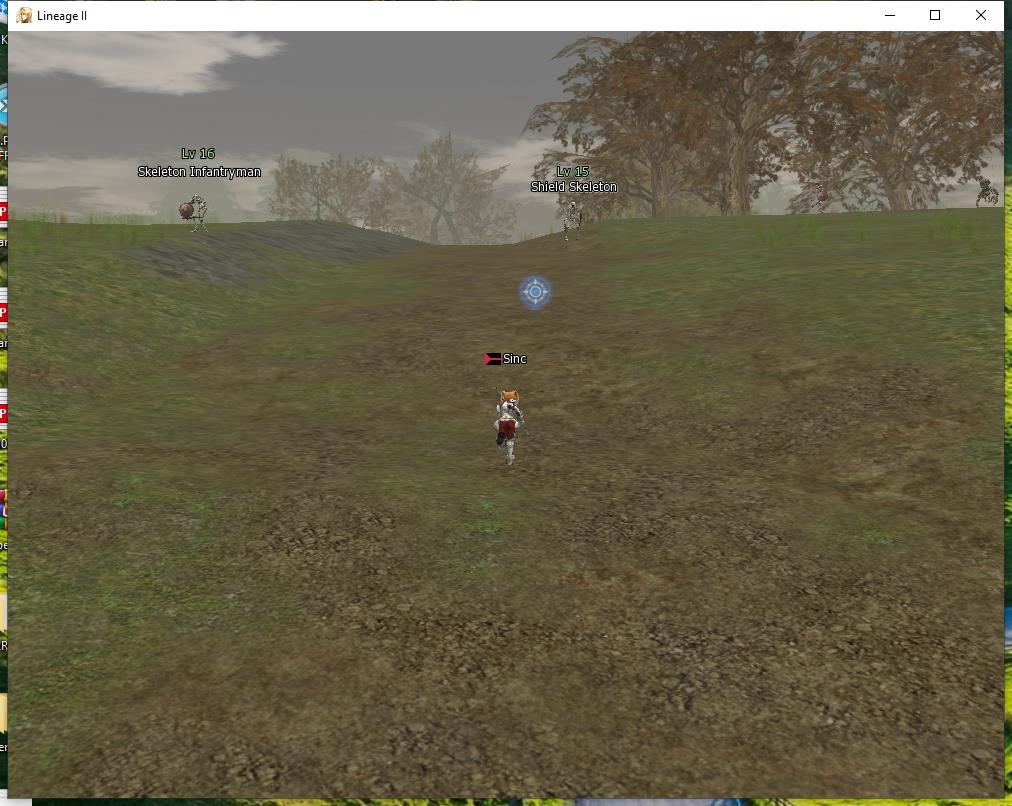monster: (125, 135, 267, 239), (525, 154, 621, 245), (970, 169, 1011, 213)
